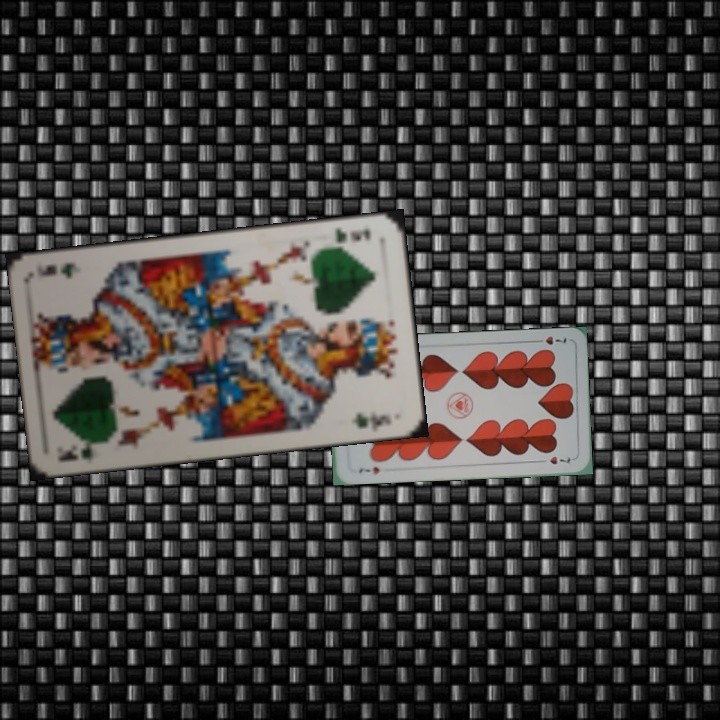GK: (54, 439, 92, 465), (331, 223, 373, 245)
H7: (530, 332, 569, 347), (355, 462, 382, 478)
